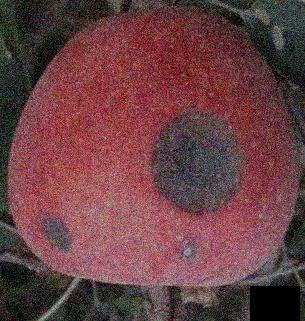rotten apple: (7, 5, 304, 289)
